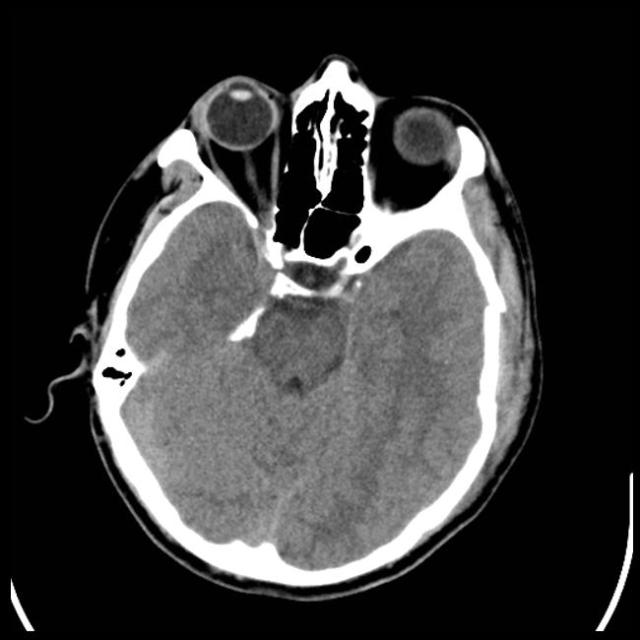lesion: (57, 52, 545, 598)
